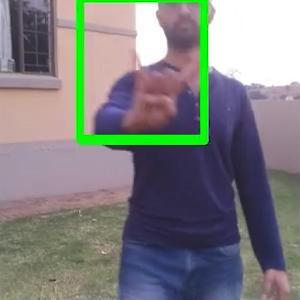takeoff-hand: (116, 33, 202, 138)
